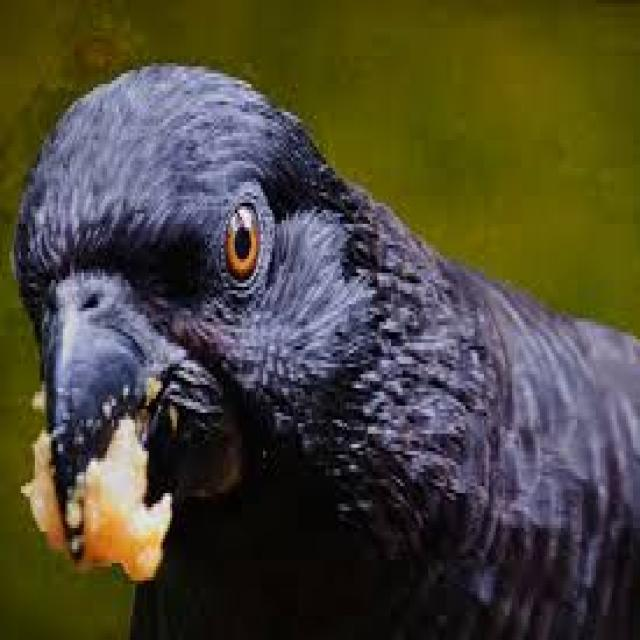Nuri Hitam: (4, 59, 640, 639)
